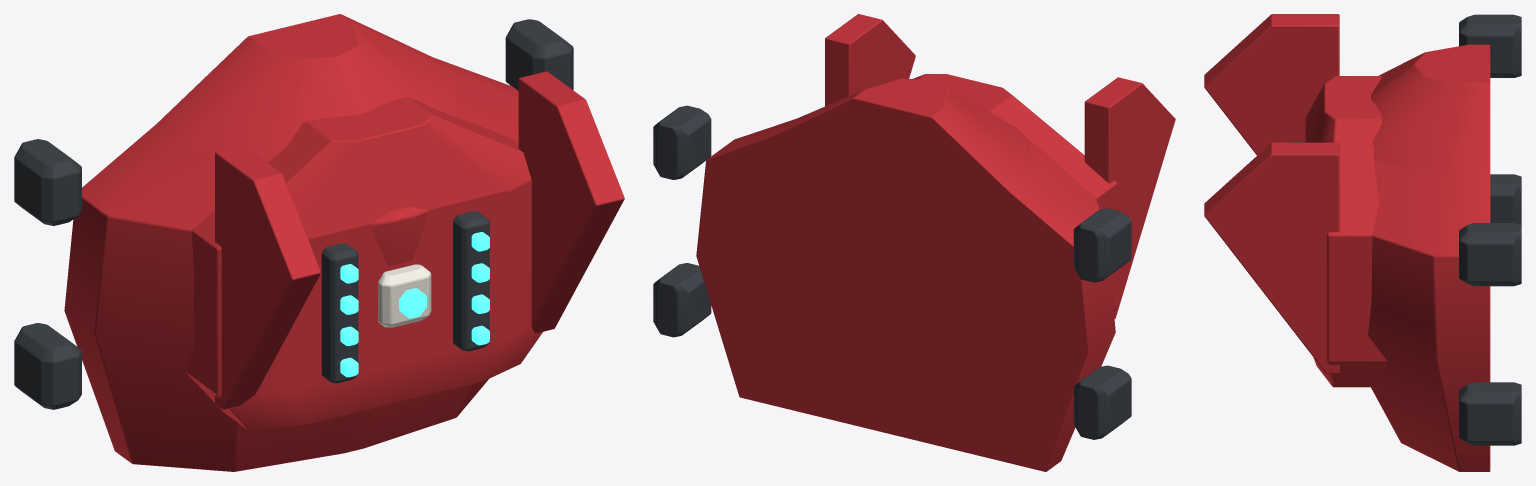
Rendered from ShoulderFront_Set10_Aegis.fbx.
3 renders of one model, left to right at view 1: azimuth 30°, elevation 25°; view 2: azimuth 150°, elevation 25°; view 3: azimuth 270°, elevation 25°, orthographic. The views are drawn at different scales.
Parts seen in each view (by area): view 1: ShoulderFront_Set10_Aegis; view 2: ShoulderFront_Set10_Aegis; view 3: ShoulderFront_Set10_Aegis.
Boxes of the visible parts, x1=… form: ShoulderFront_Set10_Aegis: x1=14, y1=14, x2=624, y2=471; ShoulderFront_Set10_Aegis: x1=653, y1=14, x2=1175, y2=471; ShoulderFront_Set10_Aegis: x1=1204, y1=14, x2=1521, y2=471.
Bounding box in the file's own units: 0.51 × 0.35 × 0.3032.
